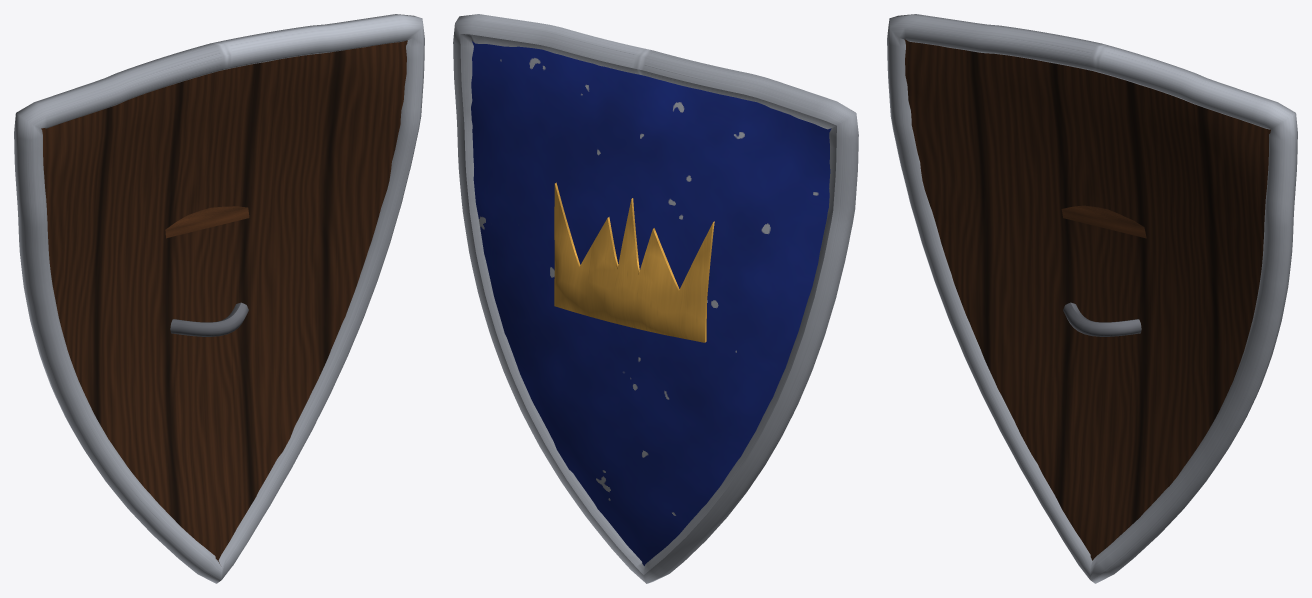
Rendered from RoyalShield.glb.
3 renders of one model, left to right at view 1: azimuth 30°, elevation 25°; view 2: azimuth 150°, elevation 25°; view 3: azimuth 330°, elevation 25°, orthographic.
Visible parts, largest first — view 1: RoyalShield; view 2: RoyalShield; view 3: RoyalShield.
Boxes of the visible parts, x1=… form: RoyalShield: x1=14, y1=14, x2=424, y2=583; RoyalShield: x1=453, y1=14, x2=858, y2=583; RoyalShield: x1=887, y1=14, x2=1297, y2=583.
Bounding box in the file's own units: 2.13 × 2.7 × 0.3615.
1 material, 1 textured.
